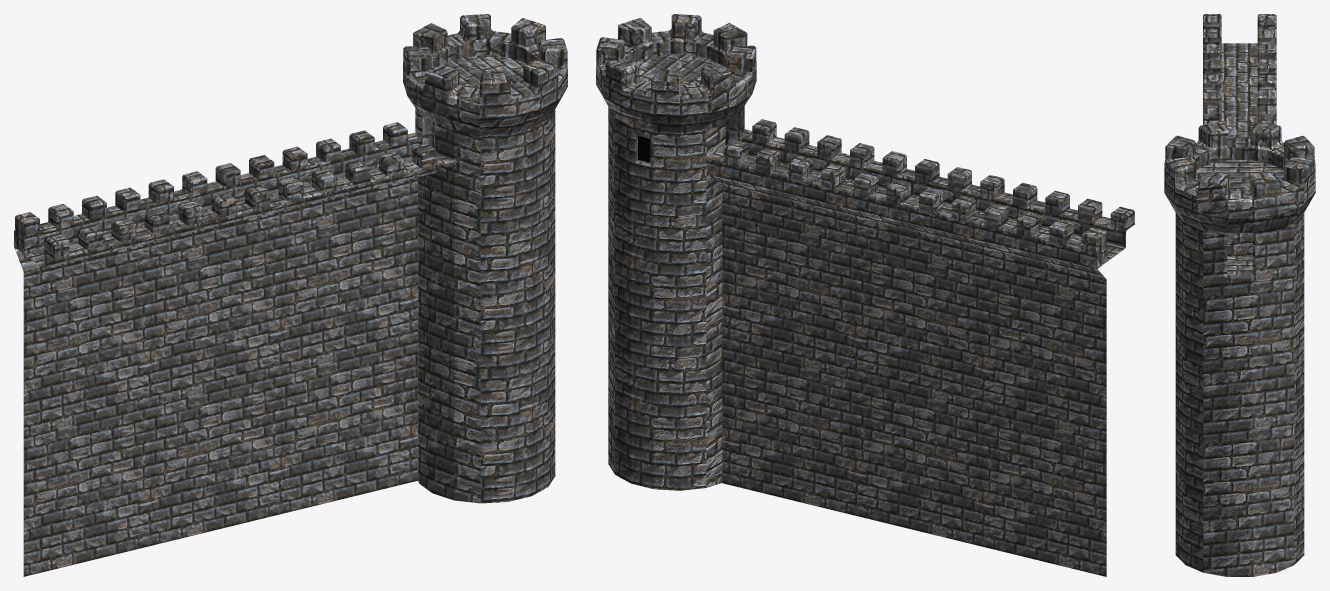
File: castlewall 1.fbx
3 renders of one model, left to right at view 1: azimuth 30°, elevation 25°; view 2: azimuth 150°, elevation 25°; view 3: azimuth 270°, elevation 25°, orthographic. The views are drawn at different scales.
Parts seen in each view (by area): view 1: Cube, Cube.001; view 2: Cube, Cube.001; view 3: Cube.001, Cube.
Part boxes in pixels (bbox=[...]): Cube: bbox=[14, 122, 454, 576]; Cube.001: bbox=[403, 14, 567, 503]; Cube: bbox=[706, 119, 1135, 576]; Cube.001: bbox=[596, 14, 756, 490]; Cube.001: bbox=[1164, 121, 1315, 576]; Cube: bbox=[1203, 14, 1276, 137].
Bounding box in the file's own units: 60.04 × 46.9 × 16.15.
